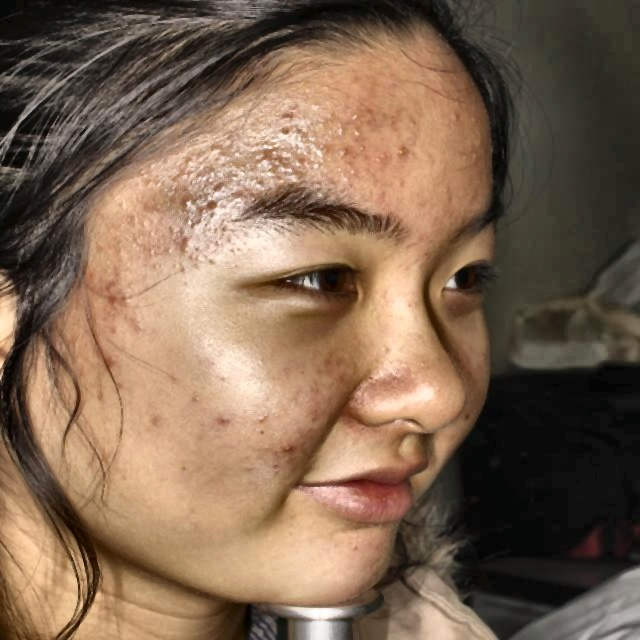pustule: (101, 269, 127, 309), (207, 178, 235, 204), (172, 150, 194, 180), (256, 149, 279, 174), (213, 412, 238, 433), (103, 346, 120, 373), (388, 142, 410, 162), (273, 442, 300, 457), (334, 144, 350, 164), (182, 192, 198, 212), (197, 212, 199, 215)
